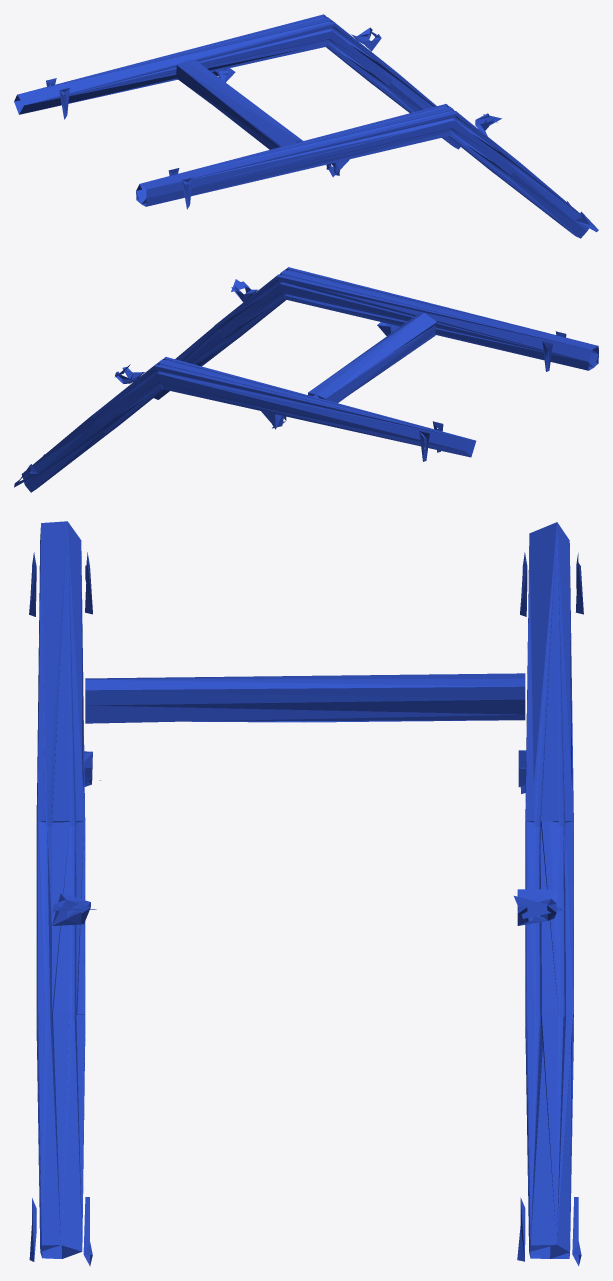
The model's file is arms_simple.dae.
The picture shows the model from 3 angles, top to bottom: view 1: azimuth 30°, elevation 25°; view 2: azimuth 150°, elevation 25°; view 3: azimuth 270°, elevation 25°; orthographic projection. The views are drawn at different scales.
Parts seen in each view (by area): view 1: arms; view 2: arms; view 3: arms.
Part boxes in pixels (x1,y1,x2,y2): arms: (14, 14, 598, 238); arms: (14, 267, 598, 492); arms: (29, 521, 583, 1266).
Bounding box in the file's own units: 1.07 × 0.5683 × 0.3584.
